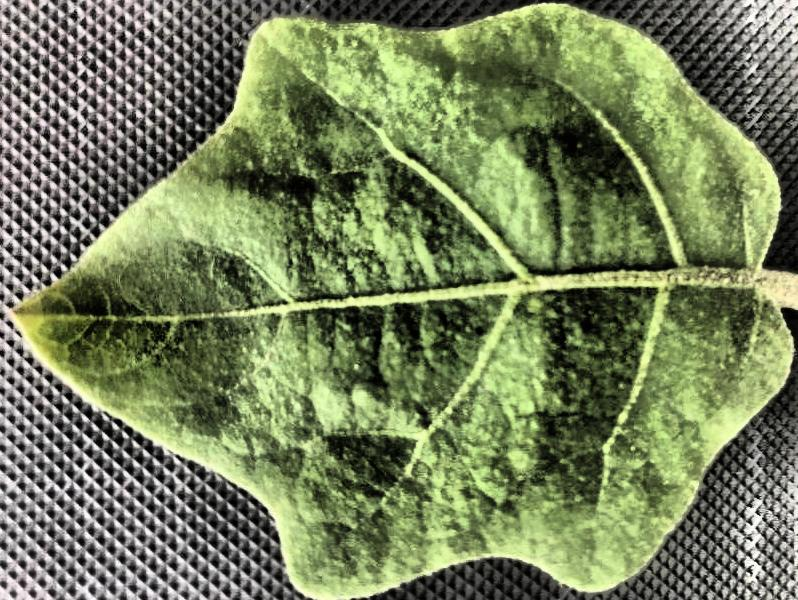HEALTHY: (0, 1, 798, 600)
